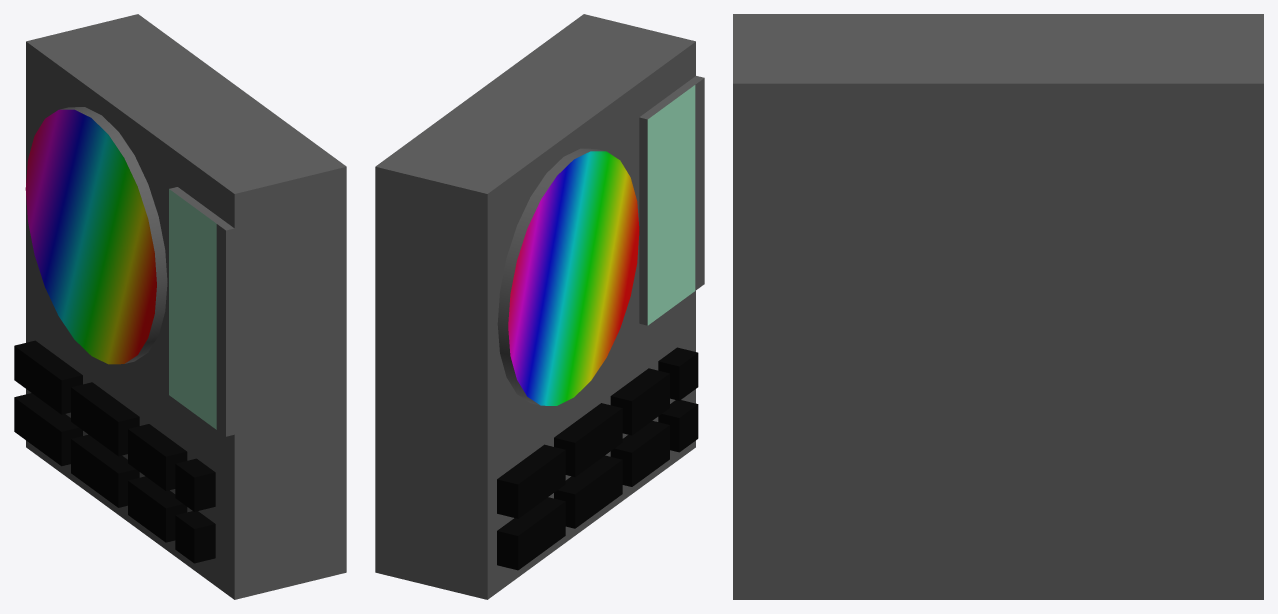
File: color_panel.gltf
3 renders of one model, left to right at view 1: azimuth 30°, elevation 25°; view 2: azimuth 150°, elevation 25°; view 3: azimuth 270°, elevation 25°, orthographic. The views are drawn at different scales.
Parts seen in each view (by area): view 1: control_panel; view 2: control_panel; view 3: control_panel.
Part boxes in pixels (<box>): control_panel: <box>14,14,346,599</box>; control_panel: <box>375,14,704,599</box>; control_panel: <box>733,14,1263,599</box>.
Size of the model in its own units: 0.7391 by 2.15 by 2.
Materials: 4 (1 with a texture image).
